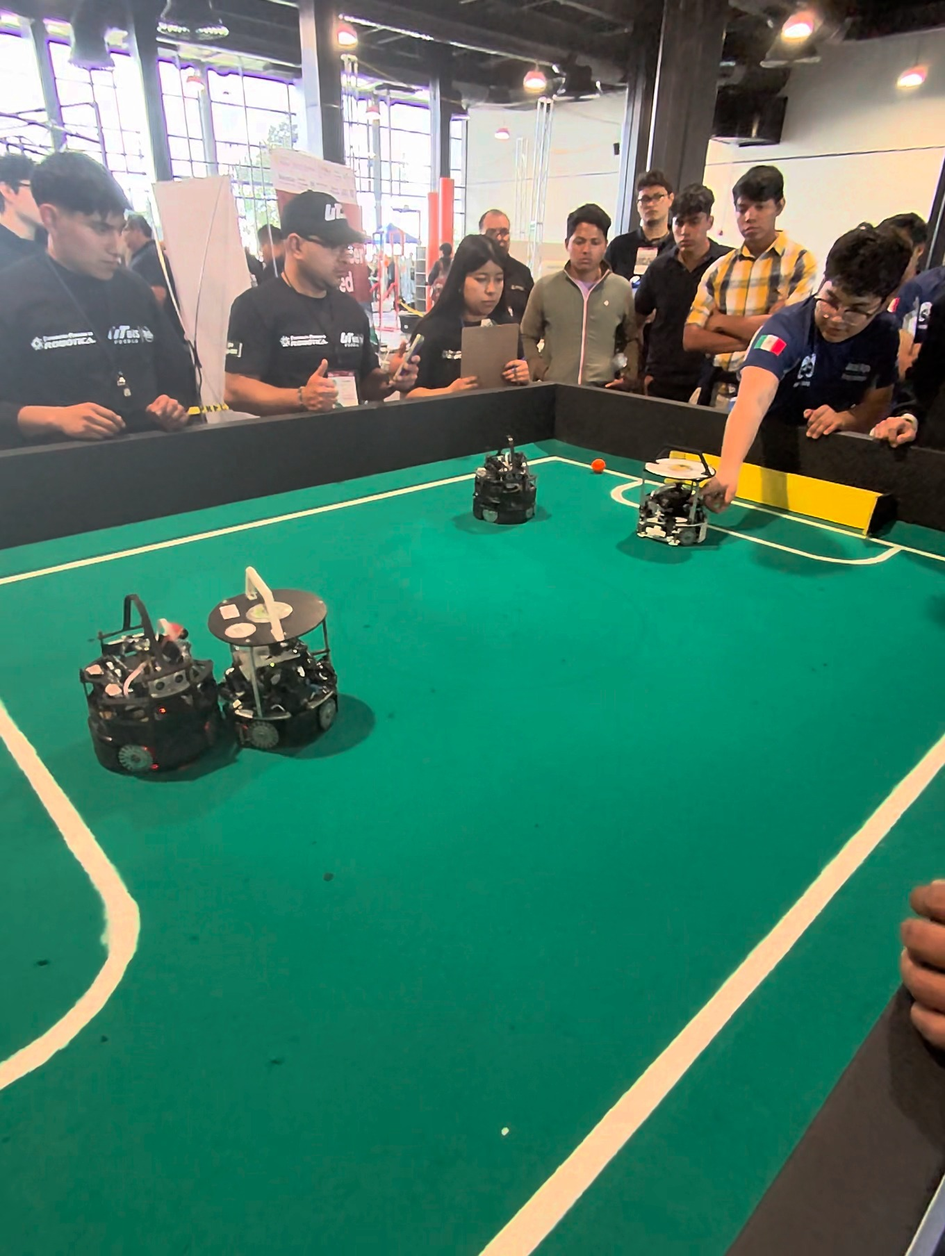Robot: (75, 595, 224, 793), (212, 566, 354, 765), (634, 437, 711, 556), (471, 434, 542, 533)
